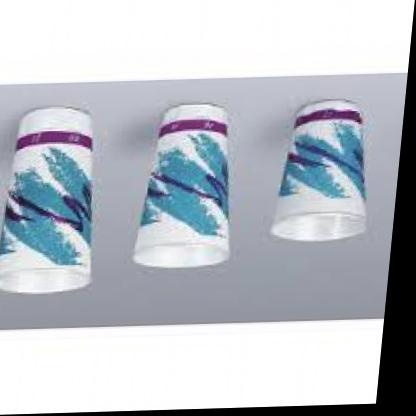trash: (0, 107, 92, 292), (133, 104, 228, 267), (271, 100, 365, 240)
